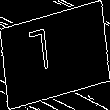L_S: (43, 27, 67, 83)
